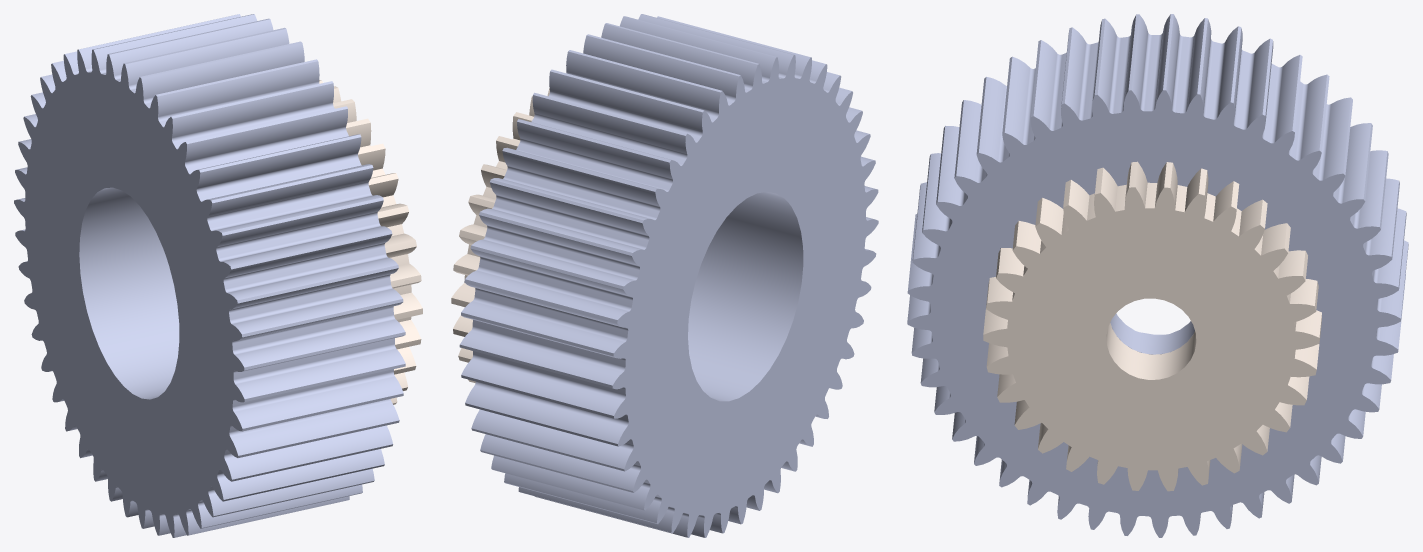
File: small_gear_with_coupler.glb
3 renders of one model, left to right at view 1: azimuth 30°, elevation 25°; view 2: azimuth 150°, elevation 25°; view 3: azimuth 270°, elevation 25°, orthographic.
Parts seen in each view (by area): view 1: spur_gear_5-1, spur gear_am-1; view 2: spur_gear_5-1, spur gear_am-1; view 3: spur_gear_5-1, spur gear_am-1.
Part boxes in pixels (x1=…): spur_gear_5-1: x1=14, y1=14, x2=405, y2=537; spur gear_am-1: x1=319, y1=80, x2=422, y2=404; spur_gear_5-1: x1=459, y1=14, x2=878, y2=537; spur gear_am-1: x1=451, y1=88, x2=549, y2=383; spur_gear_5-1: x1=907, y1=14, x2=1408, y2=537; spur gear_am-1: x1=983, y1=161, x2=1321, y2=491.
Bounding box in the file's own units: 0.0858 × 0.1644 × 0.1668.
